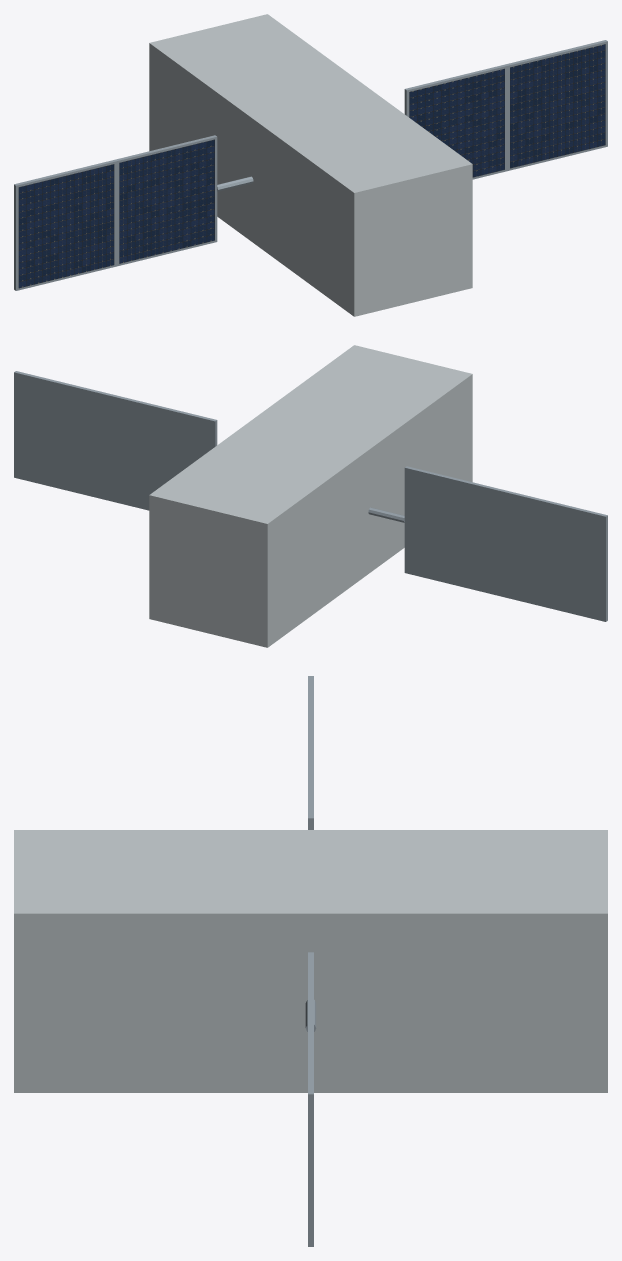
The model's file is ref-pina-43712.glb.
3 renders of one model, top to bottom at view 1: azimuth 30°, elevation 25°; view 2: azimuth 150°, elevation 25°; view 3: azimuth 270°, elevation 25°, orthographic. The views are drawn at different scales.
Parts seen in each view (by area): view 1: Spacecraft body, Photovoltaic laminates (×4), Array frame (×4); view 2: Spacecraft body, Array frame (×4); view 3: Spacecraft body, Array frame.
Boxes of the visible parts, <box> form: Spacecraft body: <box>149,14,472,316</box>; Photovoltaic laminates (×4): <box>18,44,605,288</box>; Array frame (×4): <box>14,40,607,290</box>; Spacecraft body: <box>149,345,472,647</box>; Array frame (×4): <box>14,371,607,621</box>; Spacecraft body: <box>14,830,607,1092</box>; Array frame: <box>308,1023,313,1246</box>.
Bounding box in the file's own units: 0.5 × 0.1 × 0.3.
3 materials, 1 textured.
